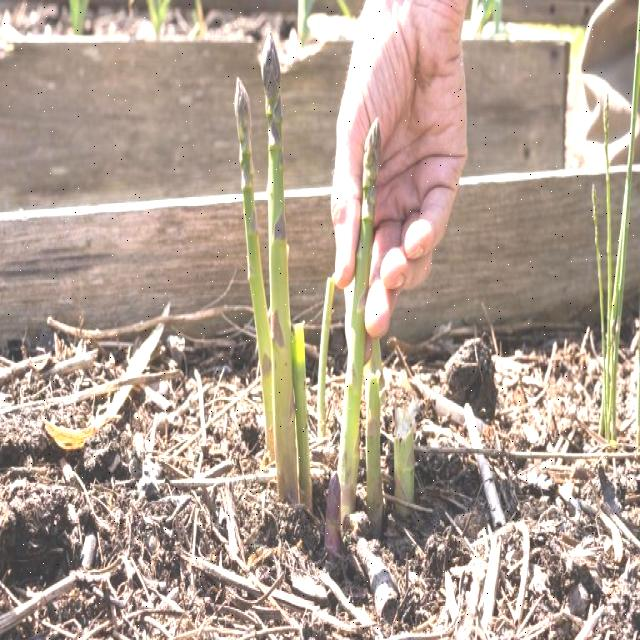aspargus: (234, 63, 308, 505)
